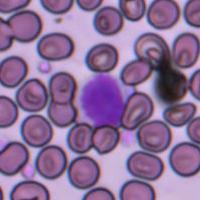L: (79, 70, 124, 127)
